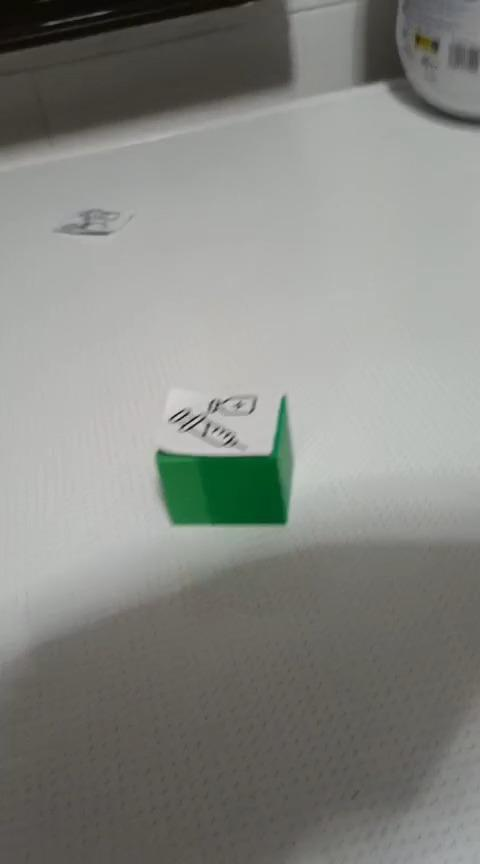antiseptic cream: (152, 385, 294, 527)
